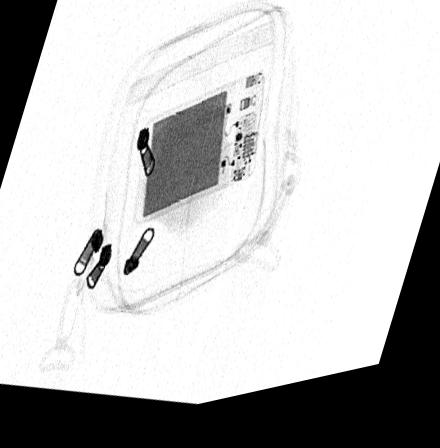Powerbank: (134, 81, 267, 231)
